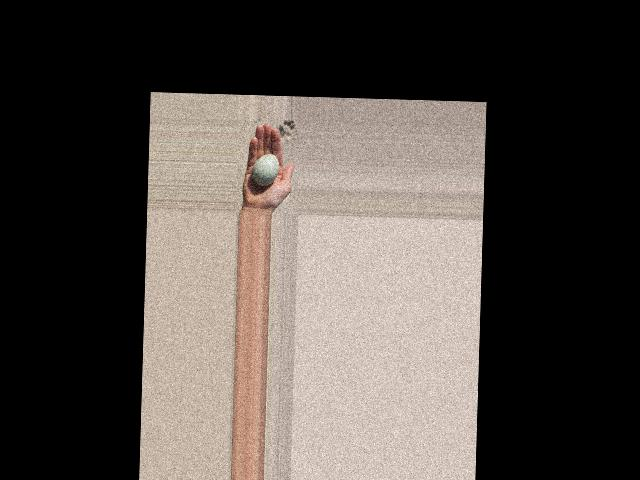egg: (251, 153, 278, 185)
